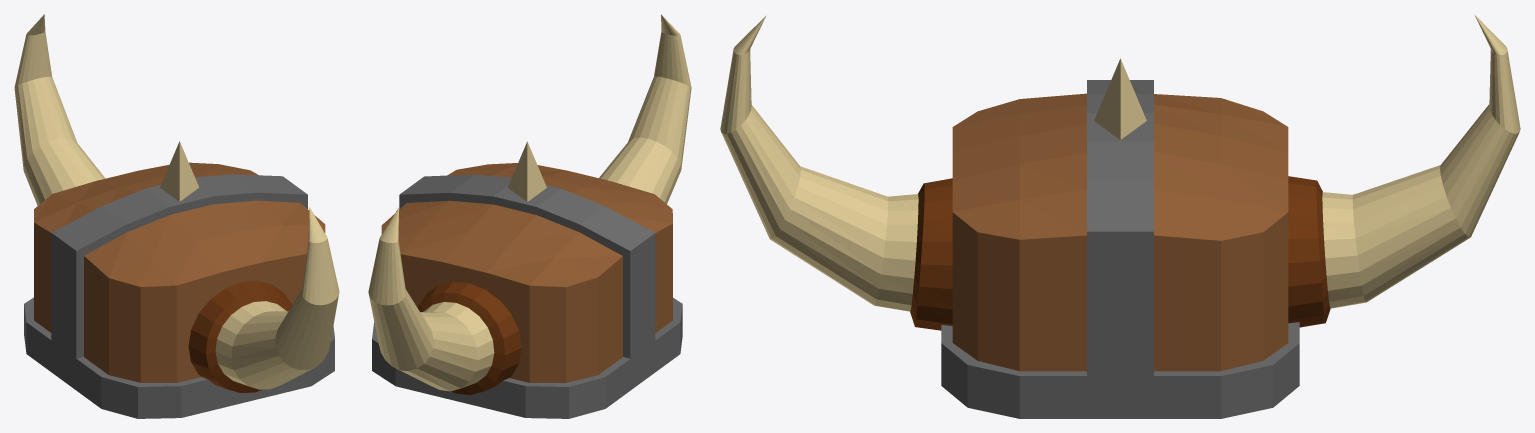
File: Hornedhelm.fbx
3 renders of one model, left to right at view 1: azimuth 30°, elevation 25°; view 2: azimuth 150°, elevation 25°; view 3: azimuth 270°, elevation 25°, orthographic. The views are drawn at different scales.
Parts seen in each view (by area): view 1: pCone5; view 2: pCone5; view 3: pCone5.
Part boxes in pixels (x1=…): pCone5: x1=14, y1=14, x2=339, y2=418; pCone5: x1=368, y1=14, x2=691, y2=418; pCone5: x1=720, y1=14, x2=1520, y2=418.
Bounding box in the file's own units: 93.4 × 93.97 × 208.
